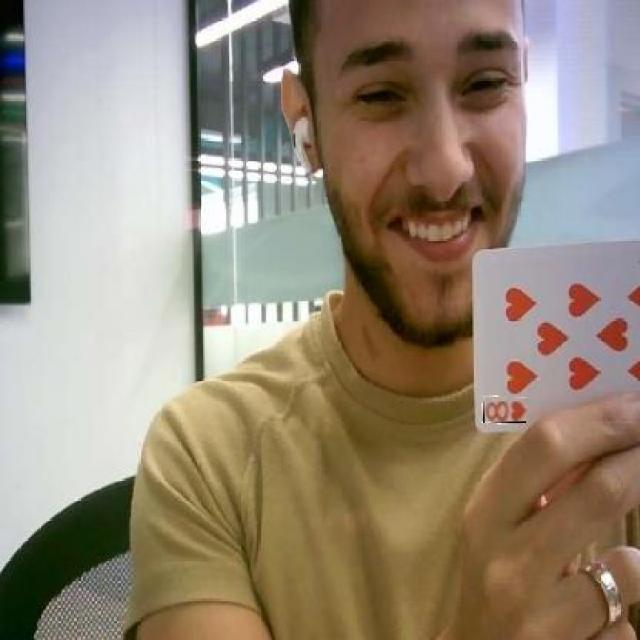8H: (482, 397, 527, 423)
